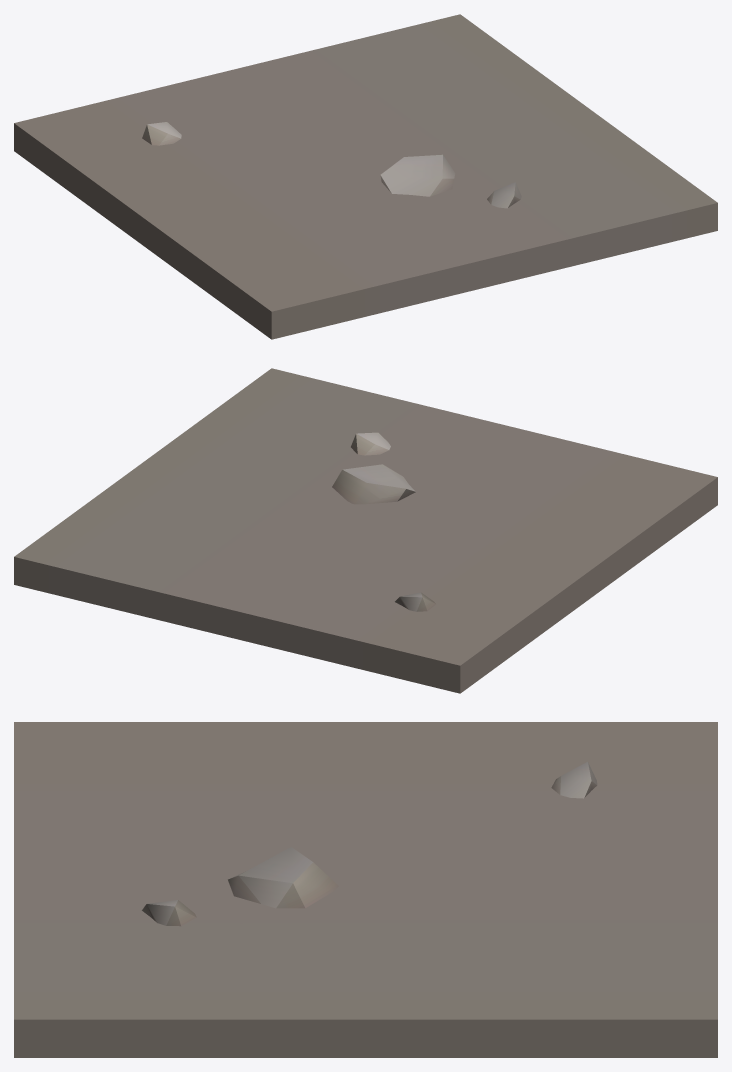
Rendered from floor_dirt_small_a.glb.
The picture shows the model from 3 angles, top to bottom: view 1: azimuth 30°, elevation 25°; view 2: azimuth 150°, elevation 25°; view 3: azimuth 270°, elevation 25°; orthographic projection. The views are drawn at different scales.
Visible parts, largest first — view 1: floor_dirt_small_A; view 2: floor_dirt_small_A; view 3: floor_dirt_small_A.
Boxes of the visible parts, left/top/right/bottom form: floor_dirt_small_A: left=14, top=14, right=717, bottom=339; floor_dirt_small_A: left=14, top=368, right=717, bottom=693; floor_dirt_small_A: left=14, top=722, right=717, bottom=1057.
Bounding box in the file's own units: 2 × 0.1863 × 2.
Materials: 1 (1 with a texture image).
